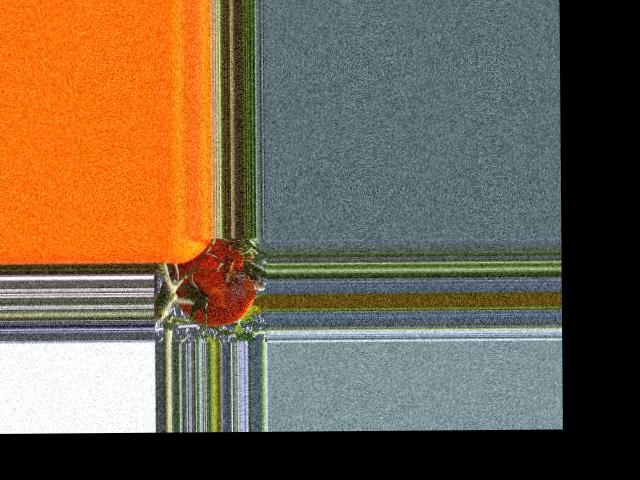tomato: (175, 239, 258, 326)
